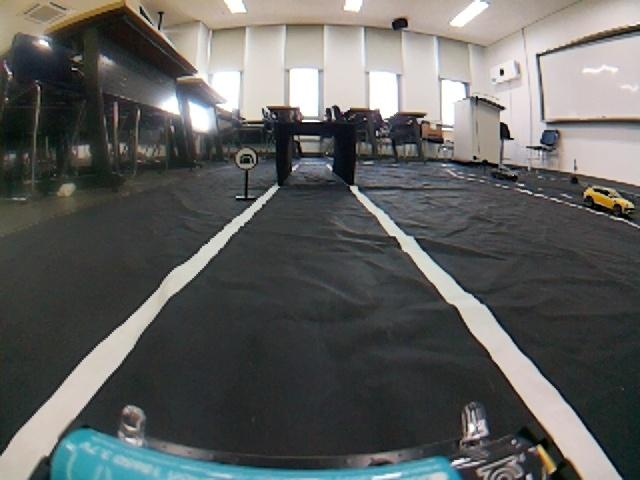sign_tunnel: (236, 147, 258, 169)
straight: (5, 202, 640, 480)
